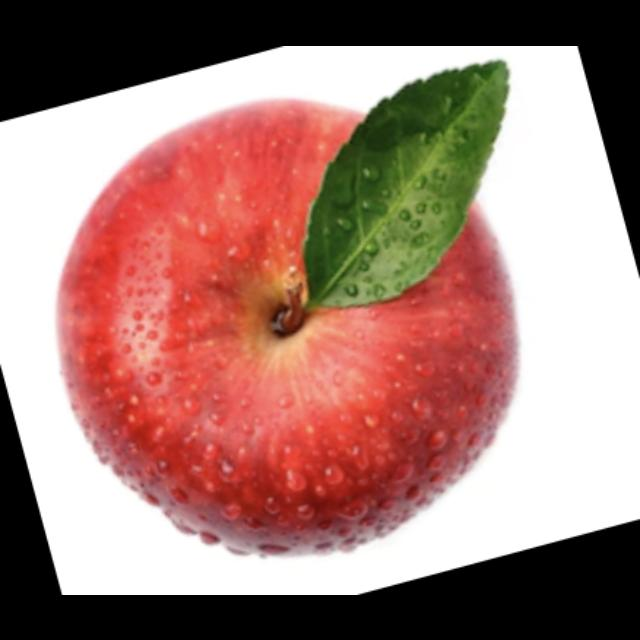Apel Segar: (30, 91, 556, 549)
